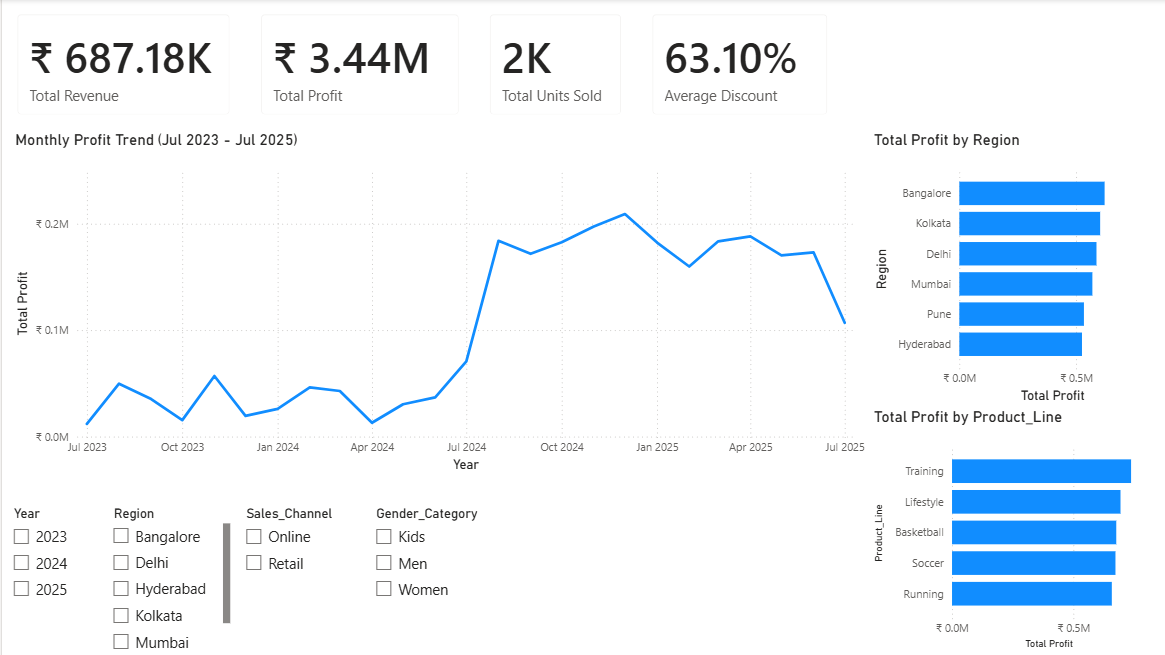

Layout of this report page (visuals, bound fields, positions):
{"tool":"powerbi","page":{"name":"Page 1","canvas":[1280,720],"ordinal":0},"visuals":[{"type":"cardVisual","fields":{"Data":["KPI Measures.Total Revenue"]},"box":[0,0,267.6,144.1],"z":0},{"type":"cardVisual","fields":{"Data":["KPI Measures.Total Profit"]},"box":[267.6,0,251.1,144.1],"z":1000},{"type":"cardVisual","fields":{"Data":["KPI Measures.Average Discount"]},"box":[697.1,0,226.4,144.1],"z":2000},{"type":"cardVisual","fields":{"Data":["KPI Measures.Total Units Sold"]},"box":[518.7,0,178.4,144.1],"z":3000},{"type":"lineChart","title":"Monthly Profit Trend (Jul 2023 - Jul 2025)","fields":{"Y":["KPI Measures.Total Profit"],"Category":["nike_sales_clean.Order_Date.Variation.Date Hierarchy.Year","nike_sales_clean.Order_Date.Variation.Date Hierarchy.Month"]},"box":[9.6,144.1,942.7,380.1],"z":4000},{"type":"clusteredBarChart","fields":{"Category":["nike_sales_clean.Region"],"Y":["KPI Measures.Total Profit"]},"box":[952.3,144.1,328,304.6],"z":5000},{"type":"clusteredBarChart","fields":{"Category":["nike_sales_clean.Product_Line"],"Y":["KPI Measures.Total Profit"]},"box":[952.3,448.7,328,270.3],"z":6000},{"type":"slicer","fields":{"Values":["nike_sales_clean.Order_Date.Variation.Date Hierarchy.Year"]},"box":[0,551.6,97.4,167.4],"z":7000},{"type":"slicer","fields":{"Values":["nike_sales_clean.Region"]},"box":[109.8,551.6,145.5,167.4],"z":8000},{"type":"slicer","fields":{"Values":["nike_sales_clean.Sales_Channel"]},"box":[255.2,551.6,144.1,168.8],"z":9000},{"type":"slicer","fields":{"Values":["nike_sales_clean.Gender_Category"]},"box":[397.9,551.6,149.6,167.4],"z":10000}]}

Visuals, with their boxes in screenshot pixels (x1, y1, x2, y2), scaled from the page's 1280x720 canvas onto the 1165x655 screenshot:
cardVisual - KPI Measures.Total Revenue: [x1=0, y1=0, x2=244, y2=131]
cardVisual - KPI Measures.Total Profit: [x1=244, y1=0, x2=472, y2=131]
cardVisual - KPI Measures.Average Discount: [x1=634, y1=0, x2=841, y2=131]
cardVisual - KPI Measures.Total Units Sold: [x1=472, y1=0, x2=634, y2=131]
"Monthly Profit Trend (Jul 2023 - Jul 2025)" lineChart: [x1=9, y1=131, x2=867, y2=477]
clusteredBarChart - nike_sales_clean.Region x KPI Measures.Total Profit: [x1=867, y1=131, x2=1164, y2=408]
clusteredBarChart - nike_sales_clean.Product_Line x KPI Measures.Total Profit: [x1=867, y1=408, x2=1164, y2=654]
slicer - nike_sales_clean.Order_Date.Variation.Date Hierarchy.Year: [x1=0, y1=502, x2=89, y2=654]
slicer - nike_sales_clean.Region: [x1=100, y1=502, x2=232, y2=654]
slicer - nike_sales_clean.Sales_Channel: [x1=232, y1=502, x2=363, y2=654]
slicer - nike_sales_clean.Gender_Category: [x1=362, y1=502, x2=498, y2=654]
